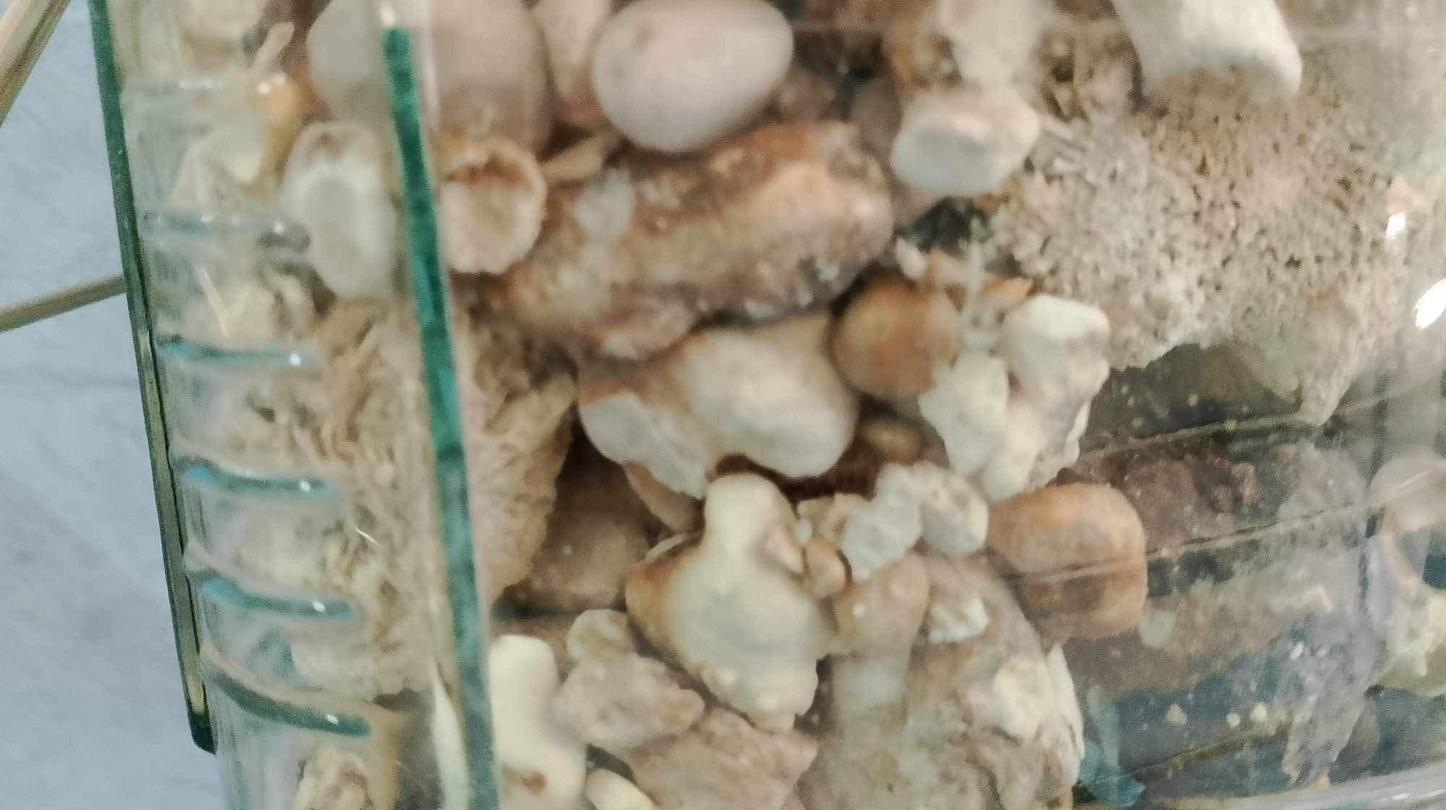General: (103, 4, 1431, 805), (86, 4, 502, 806)
Sharps: (369, 5, 505, 806)
